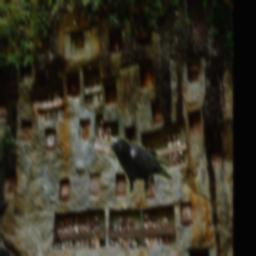Crow: (103, 137, 172, 199)
